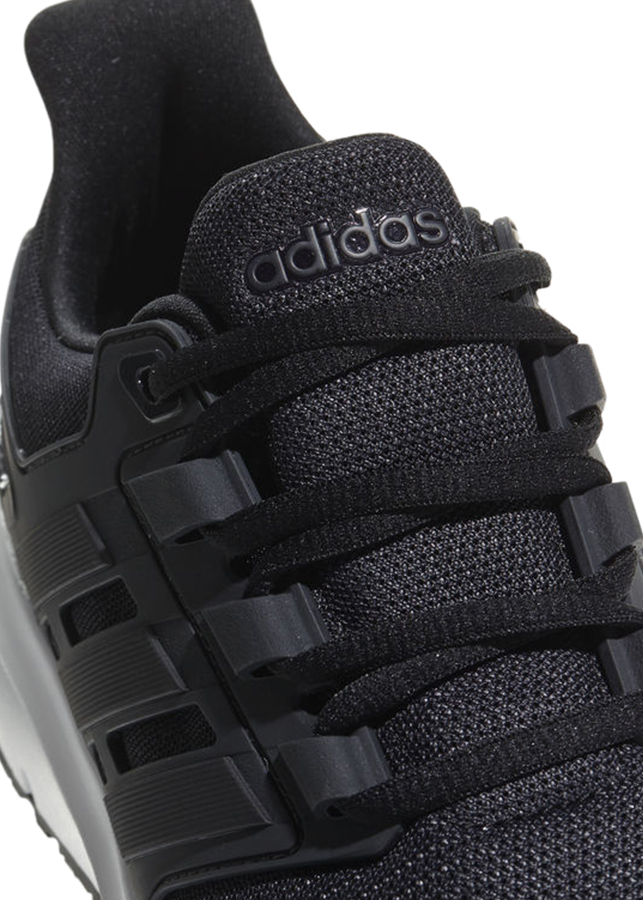Adidas: (242, 203, 450, 302)
